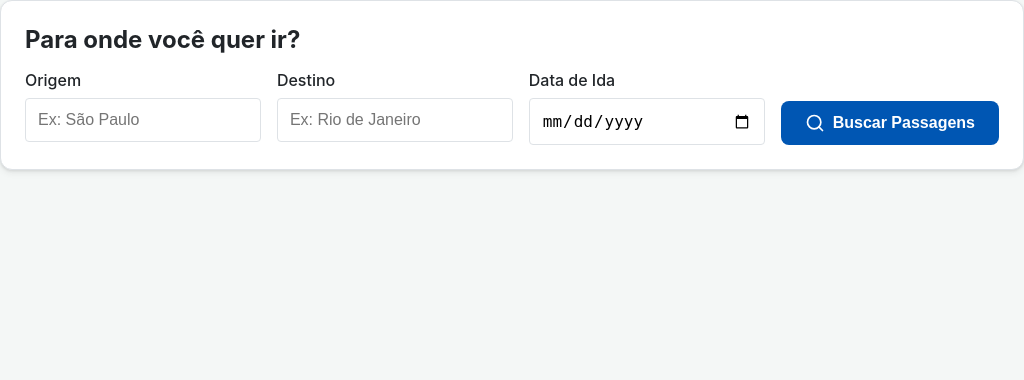
Test: SearchPage › deve filtrar por destino quando preenchido
This screenshot has width=1024, height=380.
In the field with placeholder "Ex: Rio de Janeiro": (395, 120) [277,98,513,142], type "Florianópolis"
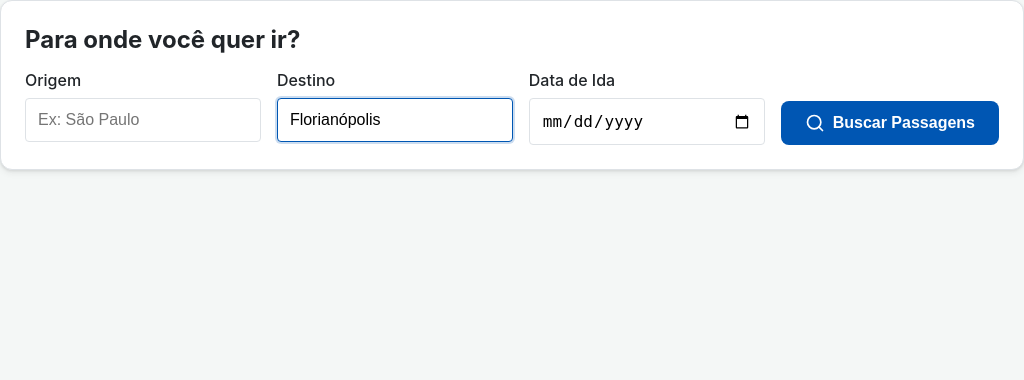
Click the button "Buscar Passagens": (890, 123) [781,101,999,145]
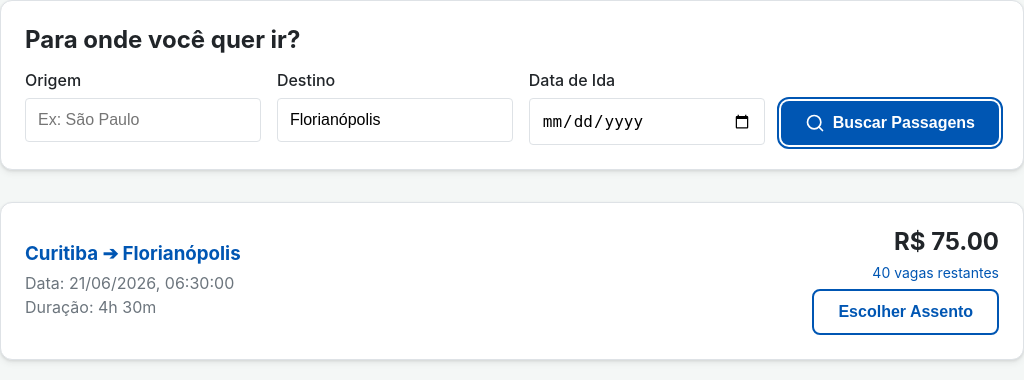
Expected: the heading "Curitiba ➔ Florianópolis" is shown, [25,242,241,264]
